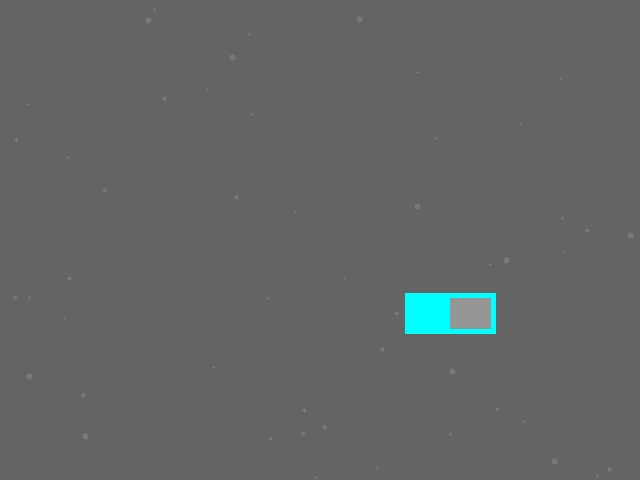truck: (405, 293, 495, 333)
